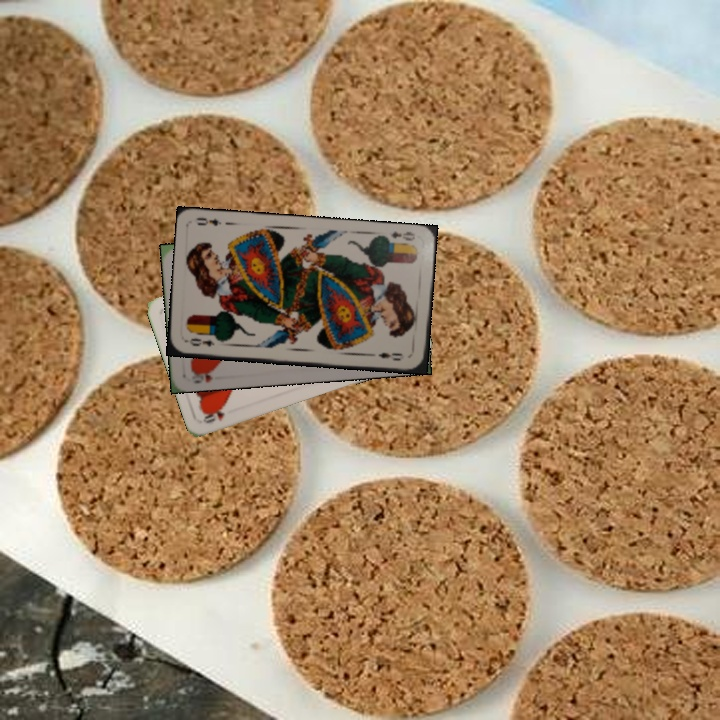EO: (183, 334, 217, 349), (387, 227, 418, 243)
HO: (187, 365, 217, 386), (199, 404, 227, 426)
